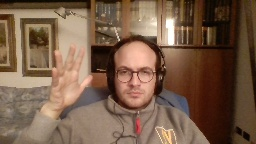Mano_aperta: (43, 41, 93, 112)
